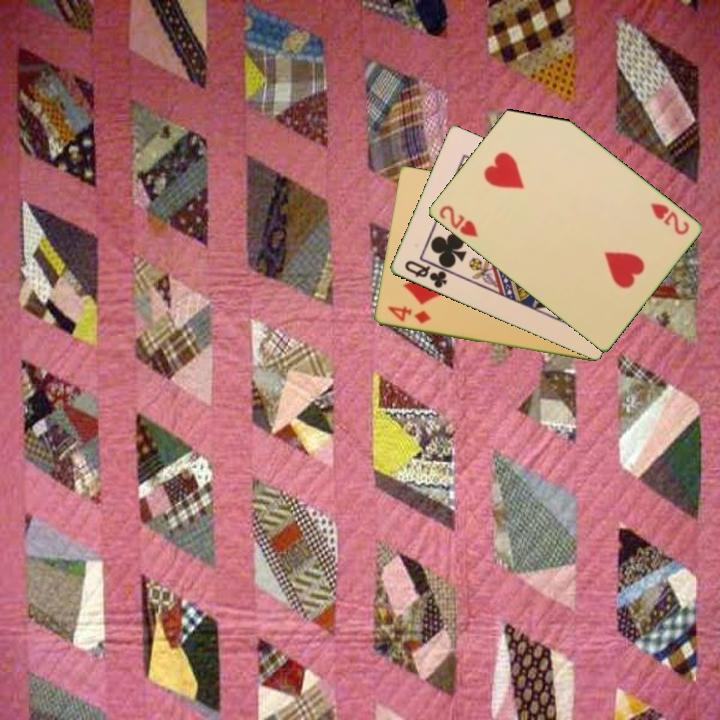2h: (646, 199, 692, 238), (435, 202, 481, 240)
4d: (383, 303, 433, 327)
Qc: (400, 257, 450, 291)
